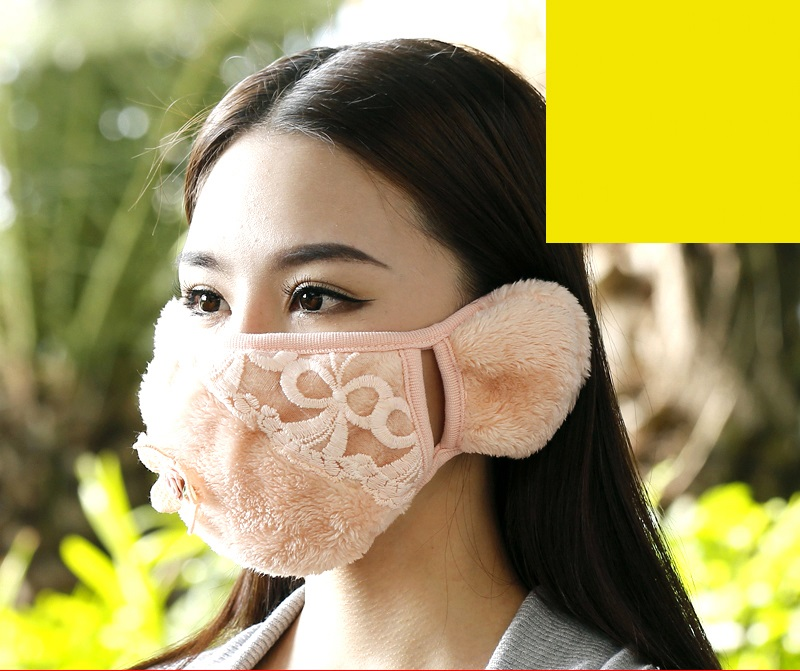face_mask: (159, 146, 450, 527)
